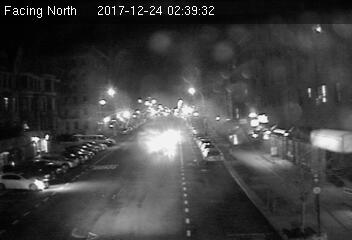car: (201, 147, 224, 164)
